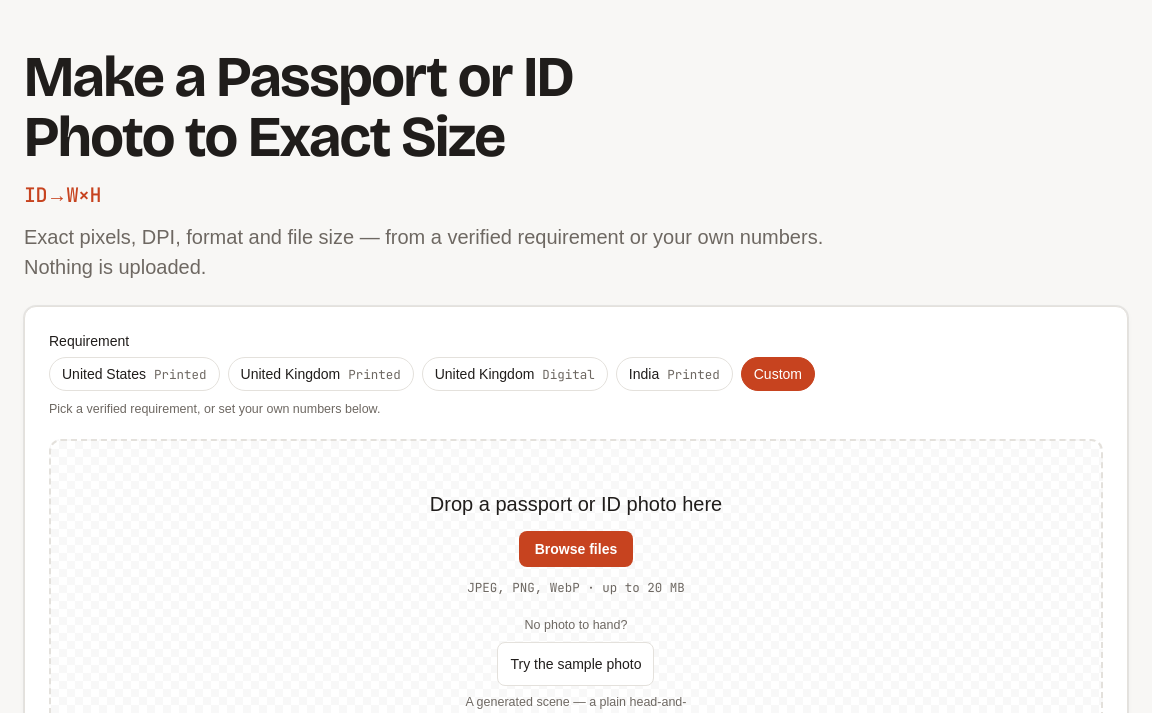
Test: the preset chip fills the fields › fills the field in the unit the source actually published, not a millimetre rounding
Click the button "United States Printed" at (134, 374), box left=49, top=357, right=220, bottom=391
(page scrolled)
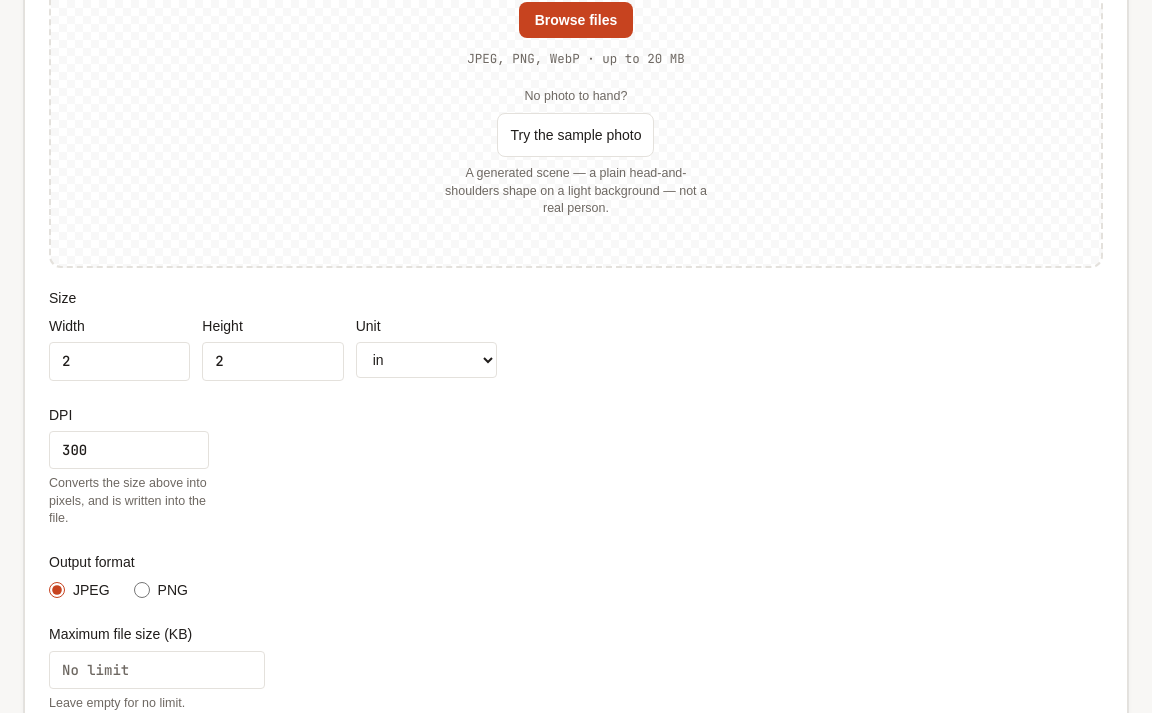
Expected: the number field labelled "Width" holds "2", left=49, top=342, right=190, bottom=381
Expected: the number field labelled "Height" holds "2", left=202, top=342, right=344, bottom=381
Expected: the dropdown labelled "Unit" shows "in", left=356, top=342, right=497, bottom=378
